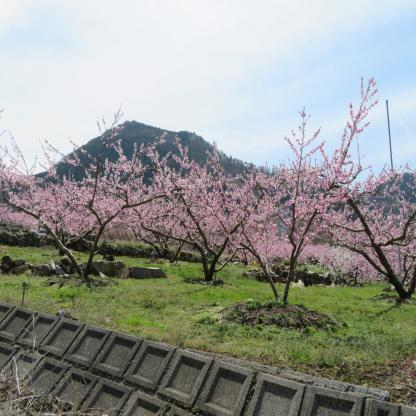Momo: (242, 71, 379, 273), (0, 106, 147, 235), (114, 132, 259, 262), (339, 150, 416, 278), (331, 240, 416, 284), (241, 232, 336, 266)
